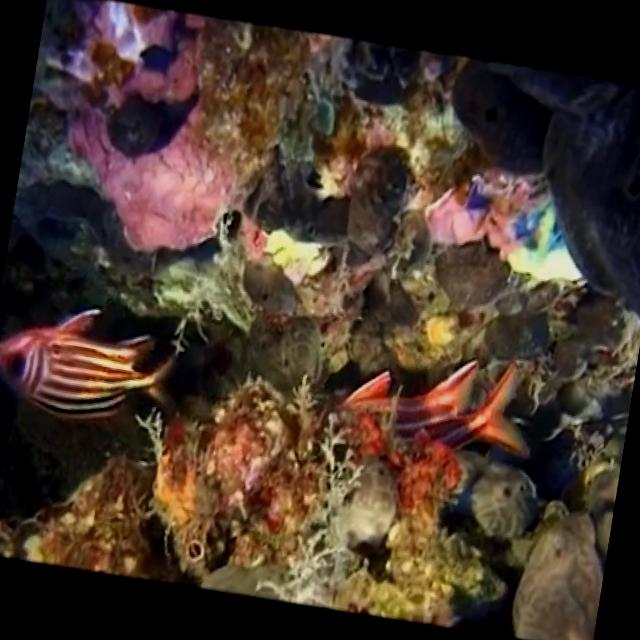Asker Baligi: (0, 289, 188, 438)
